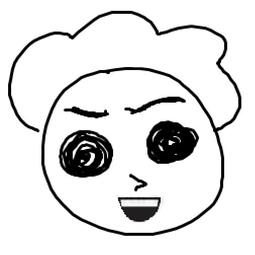eye: (53, 128, 116, 183), (142, 117, 199, 166)
eyebrow: (121, 91, 189, 117), (61, 104, 111, 122)
open_mouth: (112, 194, 165, 226)
pointy_nose: (128, 172, 148, 193)
